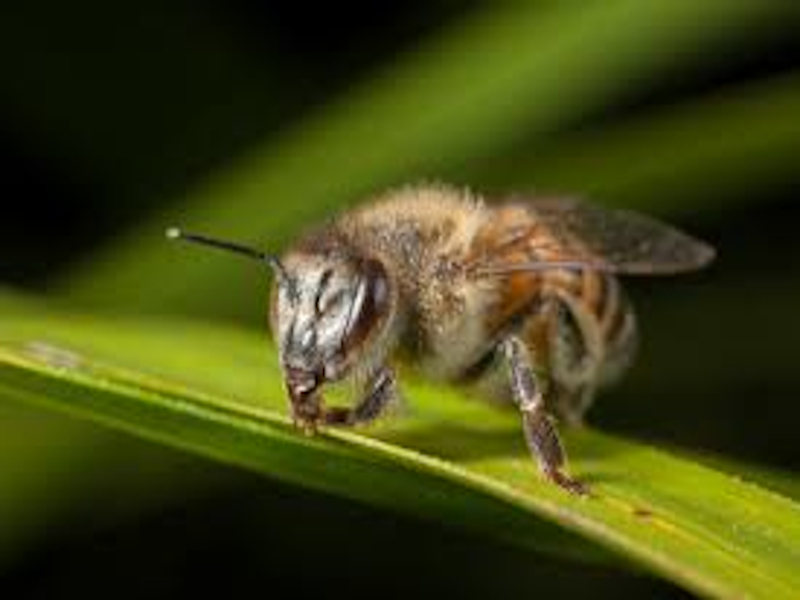abeja: (199, 148, 751, 554)
